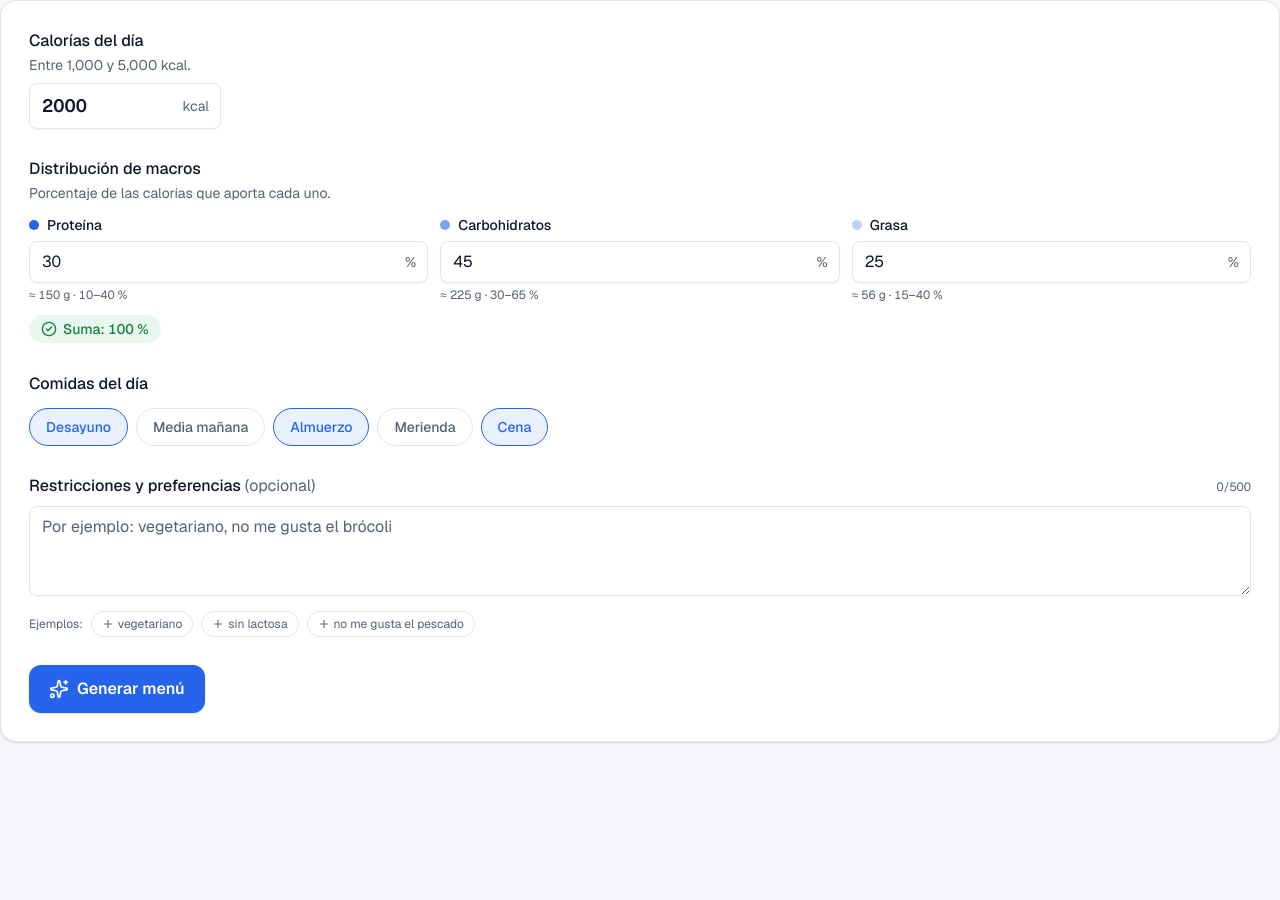
Test: MenuForm › muestra la suma de macros y no envía si no da 100
expect the text "Suma: 100 %" is shown: met, box [29,315,161,343]
Step 1. Replace the text in the number field labelled "Proteína" with "35" → (229, 262), box [29,241,428,283]
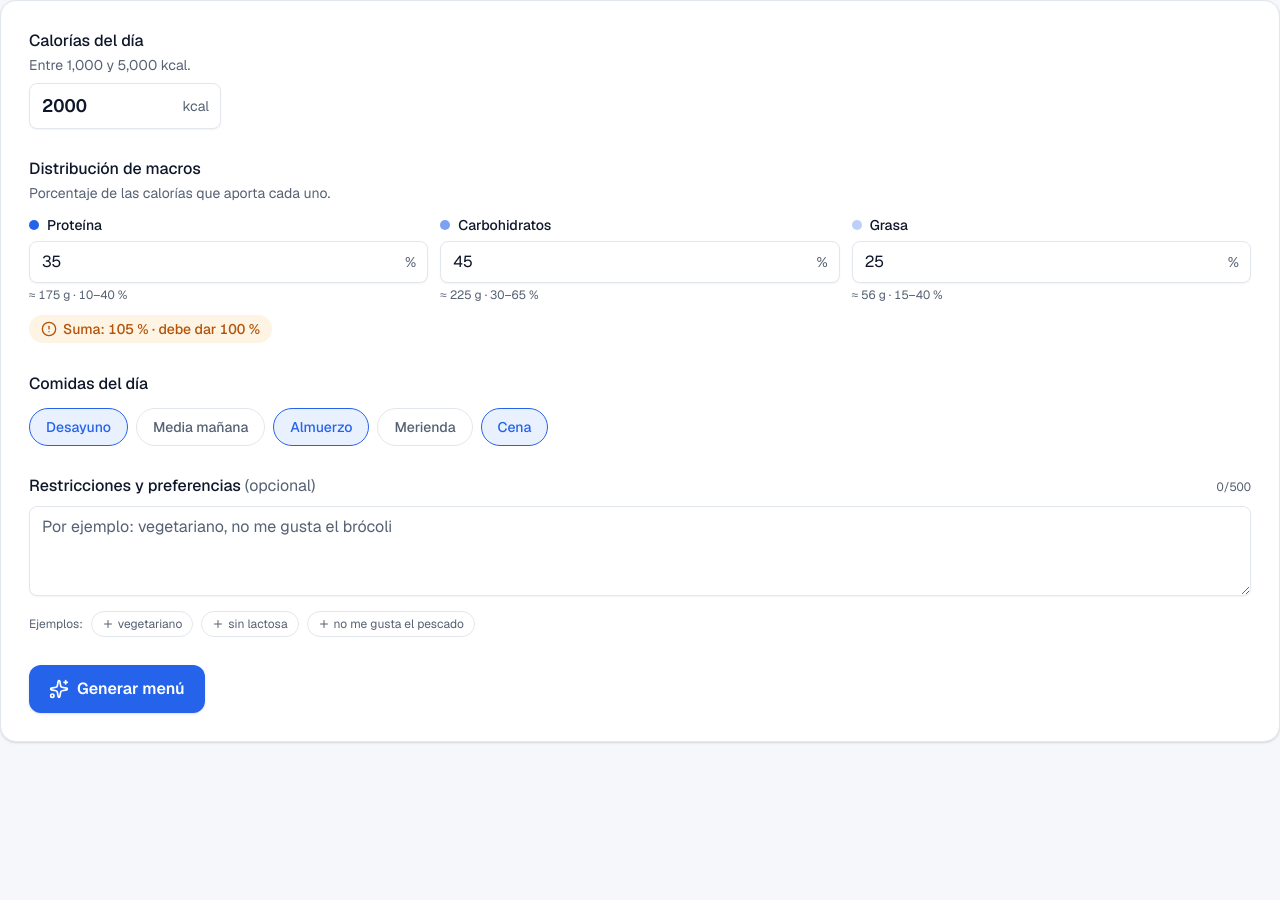
expect the text "Suma: 105 % · debe dar 100 %" is shown: met, box [29,315,272,343]
Step 2. Click the button "Generar menú" → (117, 689), box [29,665,205,713]
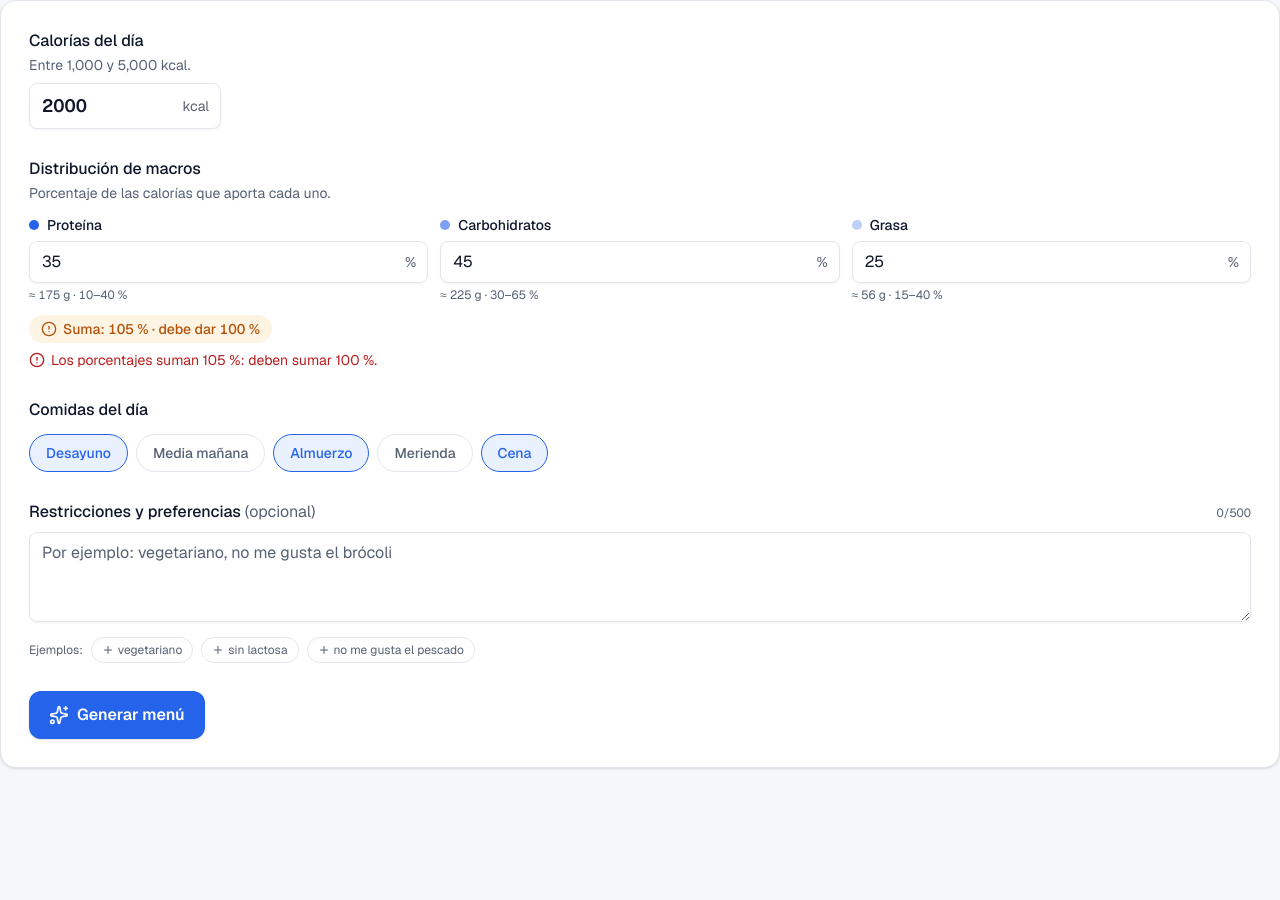
expect the text "Los porcentajes suman 105 %: deben sumar 100 %." is shown: met, box [29,351,377,369]
